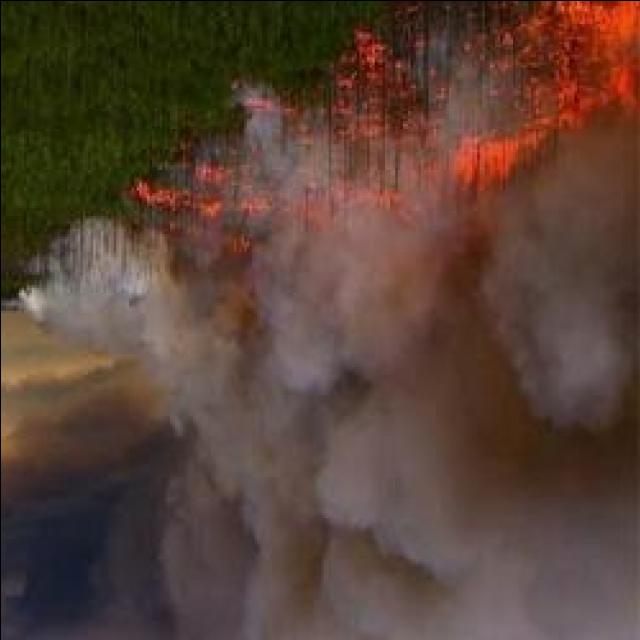fire: (546, 0, 640, 121)
smoke: (534, 147, 636, 443), (252, 220, 406, 390), (15, 214, 174, 351)
